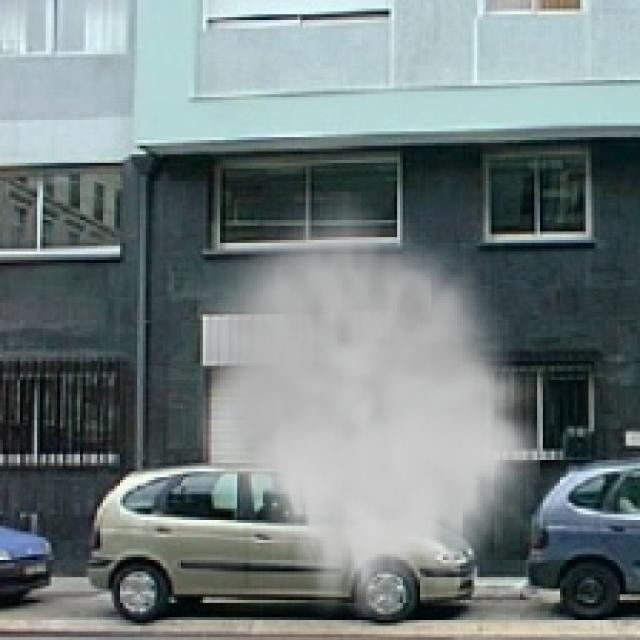Smoke: (197, 192, 540, 617)
